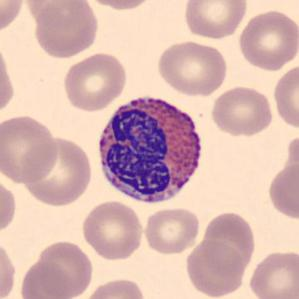Eosinophil: (92, 87, 209, 210)
RBC: (20, 134, 94, 208), (29, 0, 101, 60), (0, 112, 60, 184), (154, 38, 228, 96), (61, 50, 128, 113), (79, 199, 145, 261), (236, 7, 298, 72), (182, 237, 246, 298), (201, 209, 257, 276), (35, 238, 95, 298), (209, 84, 275, 137), (142, 205, 201, 256), (181, 0, 249, 40), (246, 247, 298, 299), (17, 258, 75, 299), (23, 0, 94, 30), (270, 61, 299, 131), (266, 161, 298, 222), (82, 275, 146, 299), (0, 40, 17, 121), (0, 236, 18, 299), (0, 175, 18, 238), (0, 0, 26, 36), (83, 0, 157, 12)
